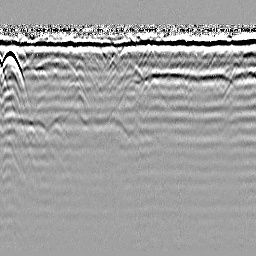cavity: (119, 56, 144, 82)
